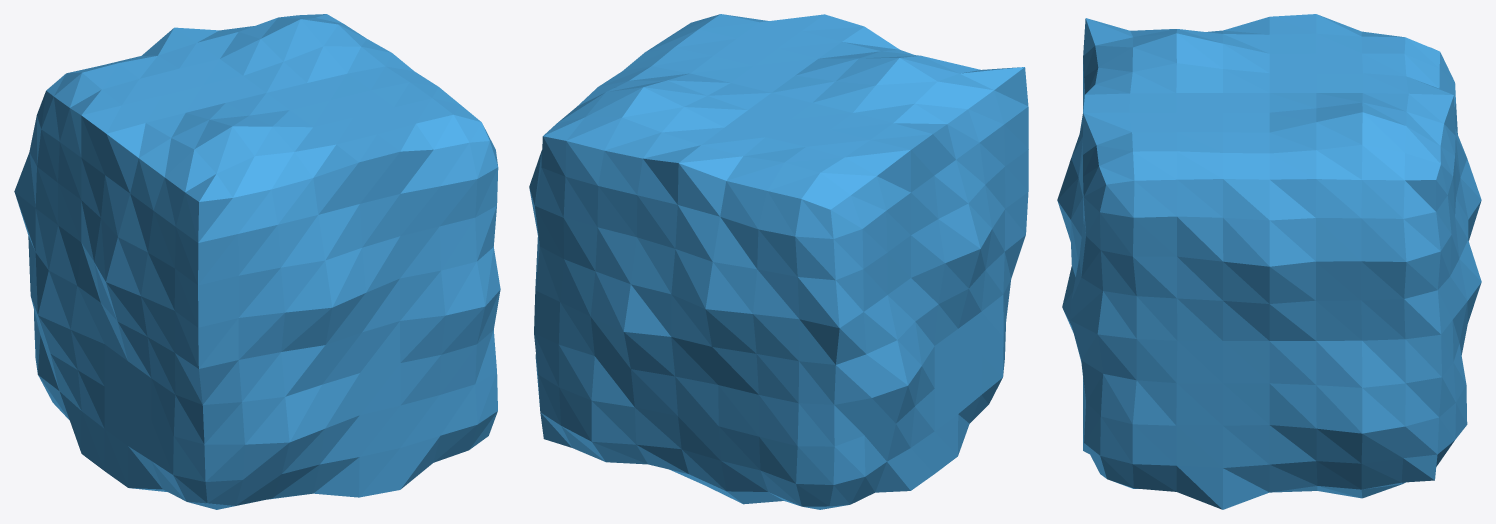
File: IceBlock.FBX
The picture shows the model from 3 angles, left to right: view 1: azimuth 30°, elevation 25°; view 2: azimuth 150°, elevation 25°; view 3: azimuth 270°, elevation 25°; orthographic projection.
Parts seen in each view (by area): view 1: Box001; view 2: Box001; view 3: Box001.
Part boxes in pixels (x1,y1,x2,y2): Box001: (14,14,500,509); Box001: (529,14,1028,509); Box001: (1057,14,1481,509).
Size of the model in its own units: 11.32 by 11.36 by 11.29.
Materials: 1 (1 with a texture image).
